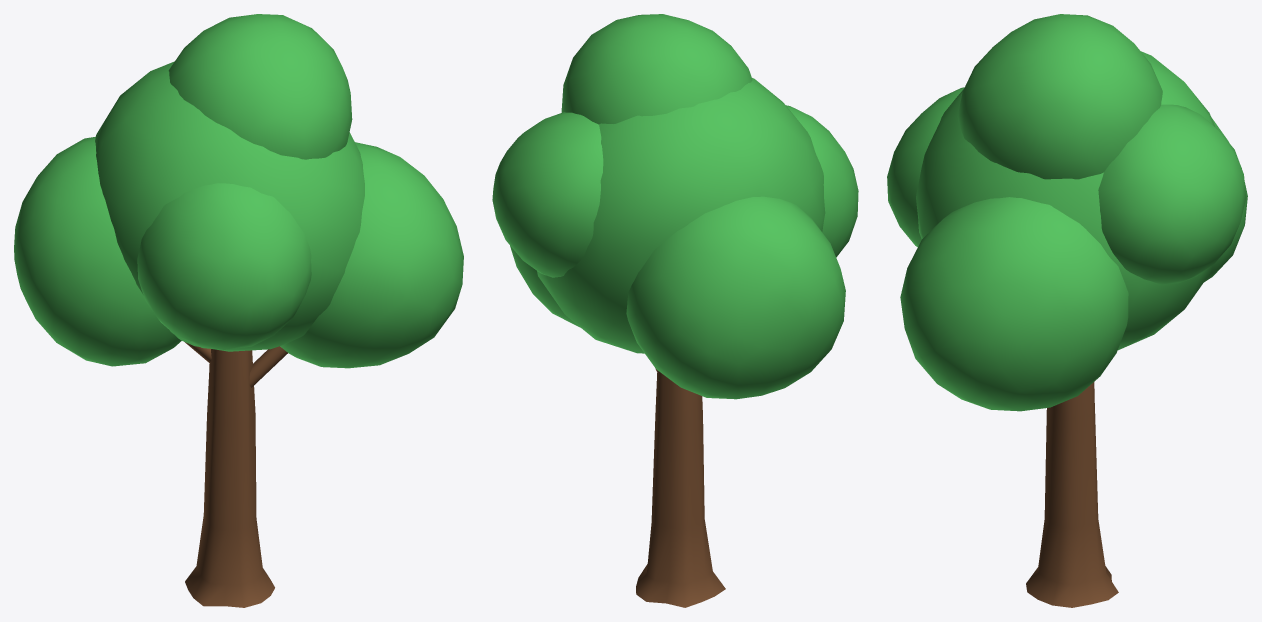
File: Tree.obj
3 views of the same model, side by side, from view 1: azimuth 30°, elevation 25°; view 2: azimuth 150°, elevation 25°; view 3: azimuth 270°, elevation 25° (orthographic). The views are drawn at different scales.
Parts seen in each view (by area): view 1: Leaves, Trunk; view 2: Leaves, Trunk; view 3: Leaves, Trunk.
Part boxes in pixels (box(x1,y1,x2,y2)): Leaves: box(14, 14, 463, 368); Trunk: box(185, 342, 287, 607); Leaves: box(492, 14, 858, 399); Trunk: box(636, 368, 725, 607); Leaves: box(887, 14, 1247, 411); Trunk: box(1026, 382, 1118, 607).
Bounding box in the file's own units: 10.93 × 16.04 × 9.1.
